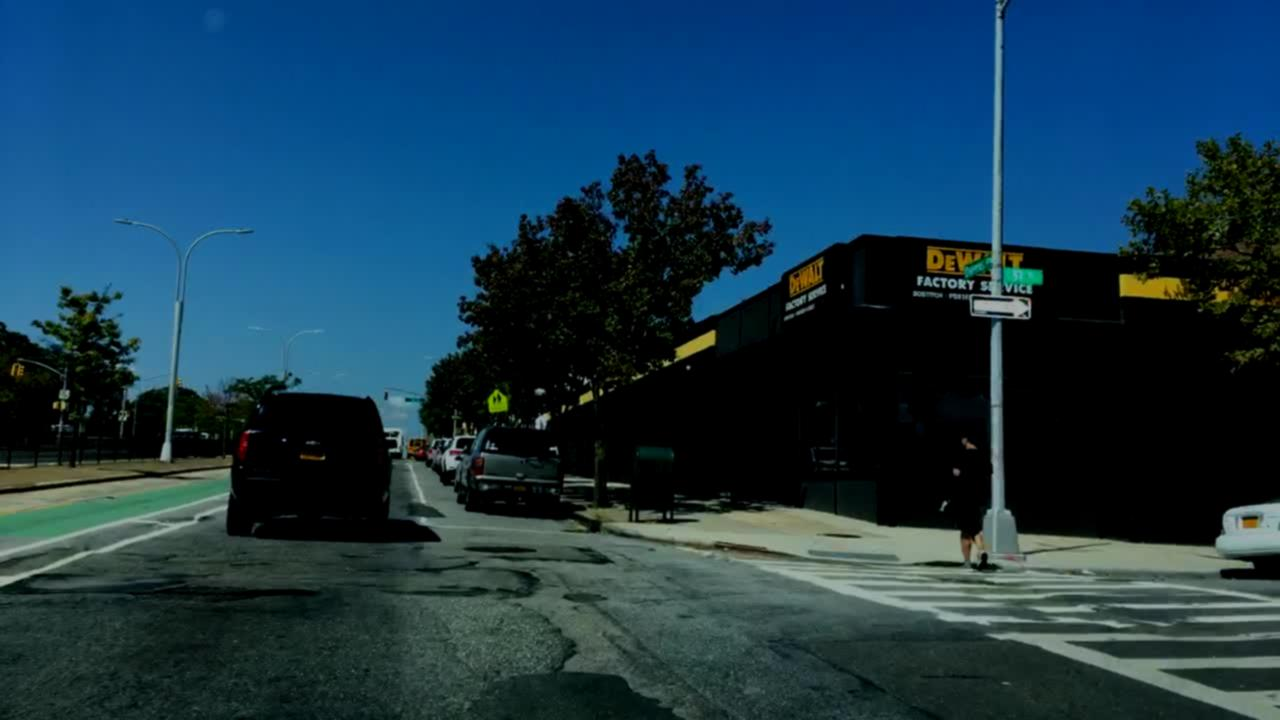chevrolet: (304, 435, 324, 450)
